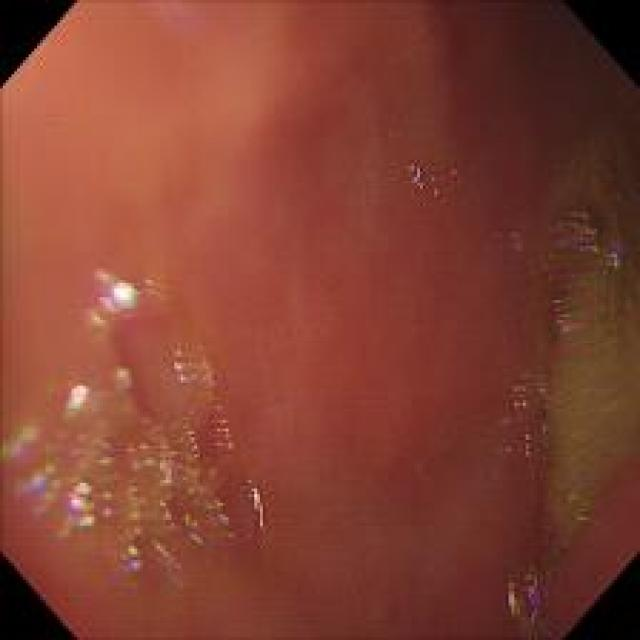blur: (2, 1, 635, 636)
bubbles: (106, 301, 208, 432)
color misalignment: (25, 281, 264, 550), (514, 215, 629, 338), (2, 412, 56, 519), (494, 355, 549, 460), (114, 535, 189, 595), (391, 150, 466, 209), (506, 559, 548, 629), (548, 482, 580, 548)
